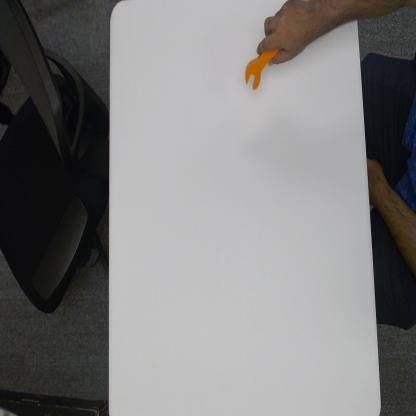Hand: (258, 0, 354, 66)
Screwdriver: (243, 45, 278, 89)
